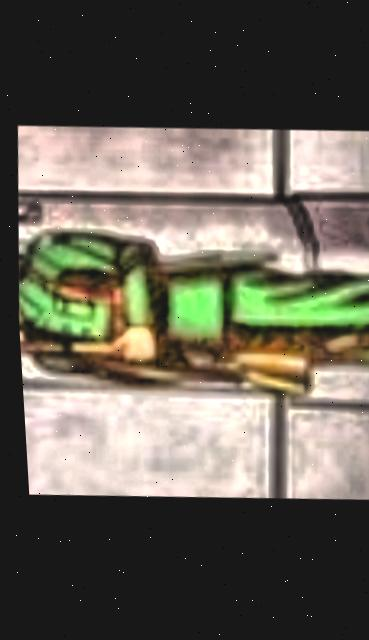El Soldado: (6, 114, 369, 513)
